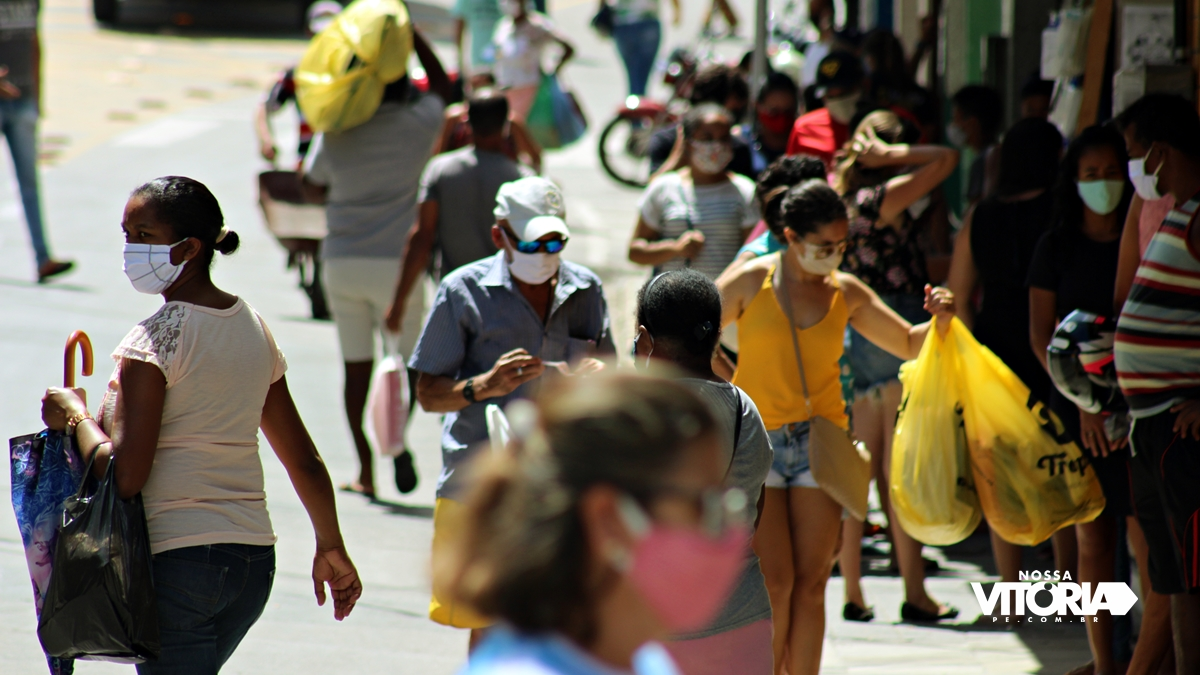with_mask: (568, 456, 754, 641), (117, 193, 205, 299), (492, 222, 568, 283), (1067, 144, 1127, 218), (780, 225, 855, 277)
